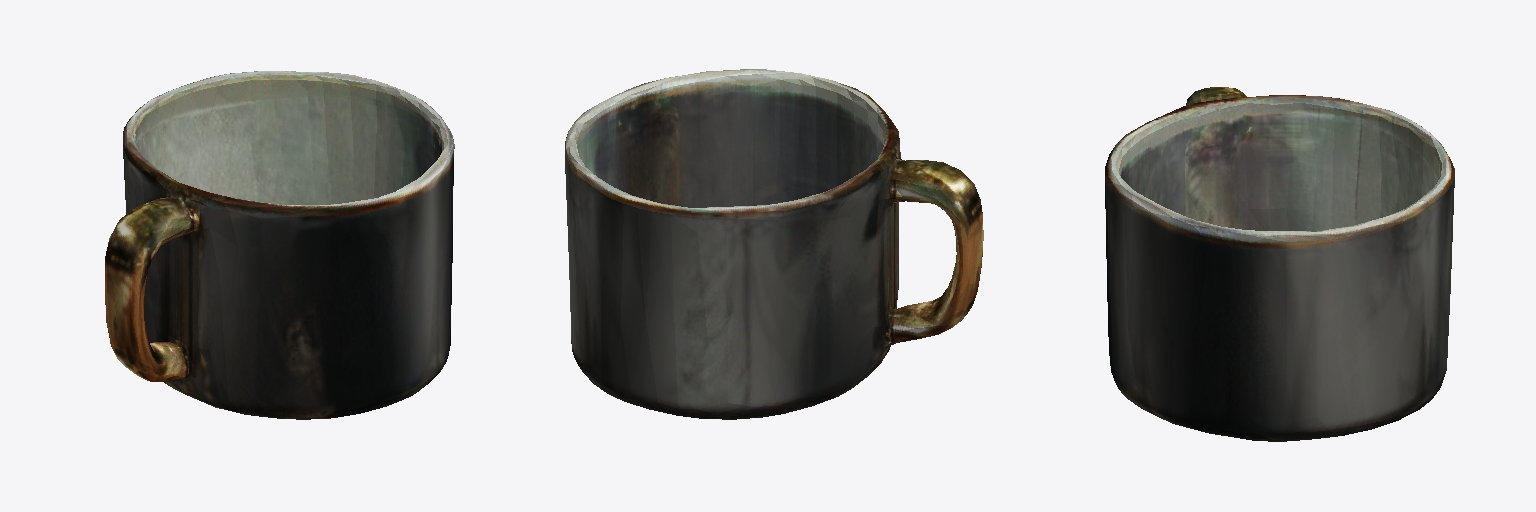
The picture shows the model from 3 angles: view 1: azimuth 30°, elevation 25°; view 2: azimuth 150°, elevation 25°; view 3: azimuth 270°, elevation 25°; orthographic projection.
Parts seen in each view (by area): view 1: geometry_0; view 2: geometry_0; view 3: geometry_0.
Part boxes in pixels (bbox=[...]): geometry_0: bbox=[105, 71, 454, 419]; geometry_0: bbox=[565, 69, 983, 419]; geometry_0: bbox=[1105, 87, 1454, 441].
Bounding box in the file's own units: 0.1 × 0.06 × 0.085.
Materials: 1 (1 with a texture image).